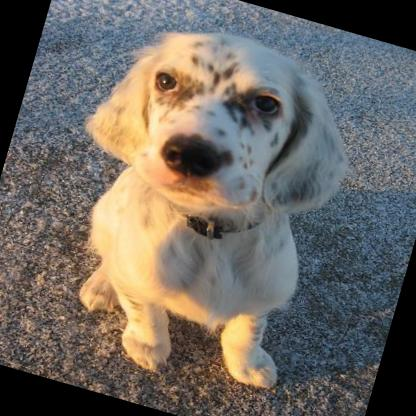English_setter: (15, 0, 379, 406)
